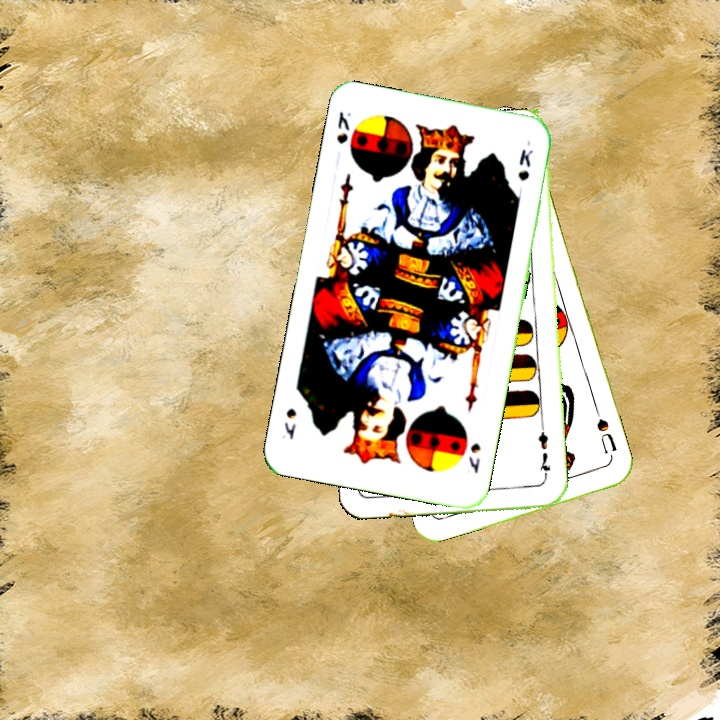E7: (534, 423, 553, 483)
SK: (332, 107, 354, 146), (464, 439, 483, 476)
SU: (592, 414, 620, 464)
